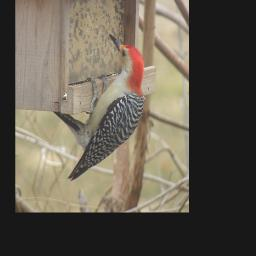Woodpecker: (59, 33, 149, 176)
